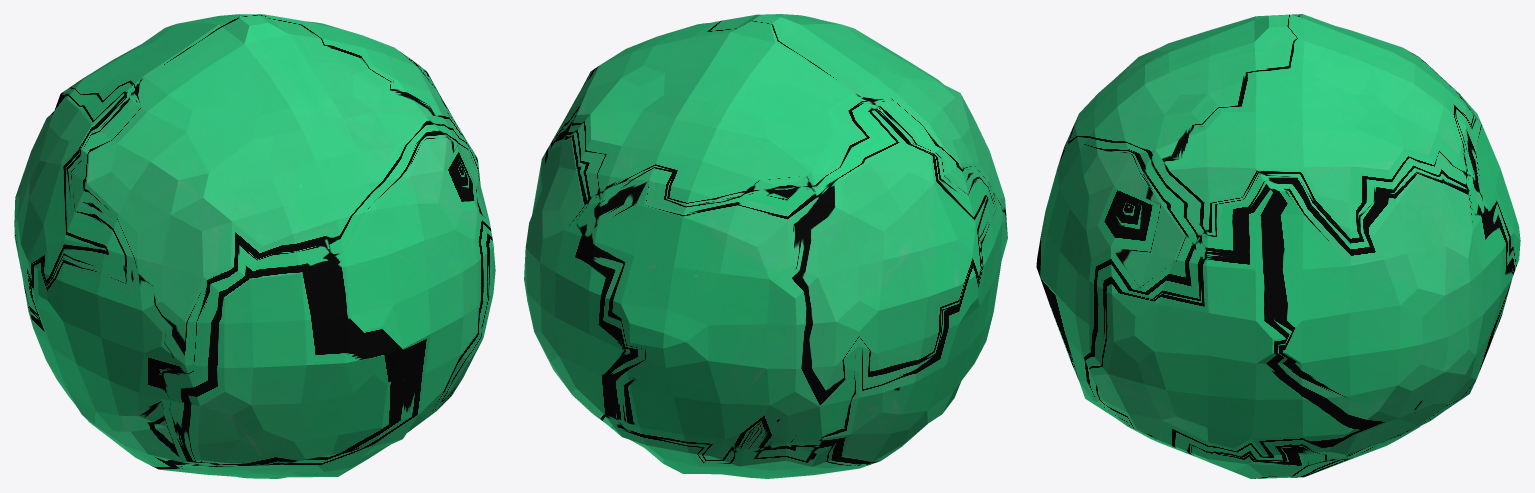
File: coin.glb
3 renders of one model, left to right at view 1: azimuth 30°, elevation 25°; view 2: azimuth 150°, elevation 25°; view 3: azimuth 270°, elevation 25°, orthographic. The views are drawn at different scales.
Visible parts, largest first — view 1: tripo_node_b16781d6-7c59-44a1-91ca-0fb3157cad1c; view 2: tripo_node_b16781d6-7c59-44a1-91ca-0fb3157cad1c; view 3: tripo_node_b16781d6-7c59-44a1-91ca-0fb3157cad1c.
Part boxes in pixels (x1,y1,x2,y2): tripo_node_b16781d6-7c59-44a1-91ca-0fb3157cad1c: [14, 14, 495, 478]; tripo_node_b16781d6-7c59-44a1-91ca-0fb3157cad1c: [524, 14, 1007, 478]; tripo_node_b16781d6-7c59-44a1-91ca-0fb3157cad1c: [1036, 14, 1520, 478].
Bounding box in the file's own units: 0.9656 × 0.9768 × 0.971.
1 material, 1 textured.
